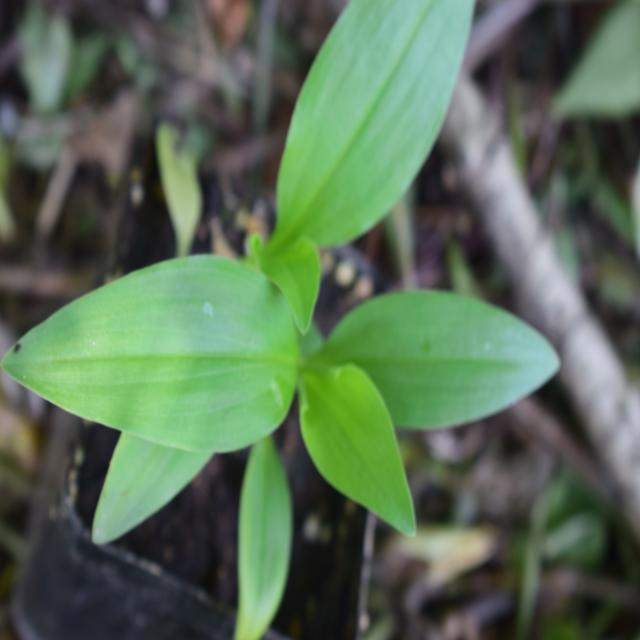Common Dayflower: (18, 255, 564, 558), (266, 0, 478, 230)
